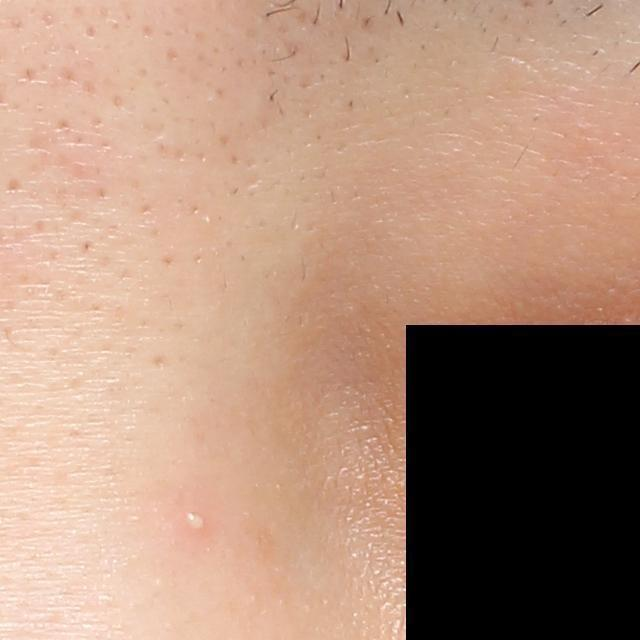pustule: (168, 499, 221, 540)
